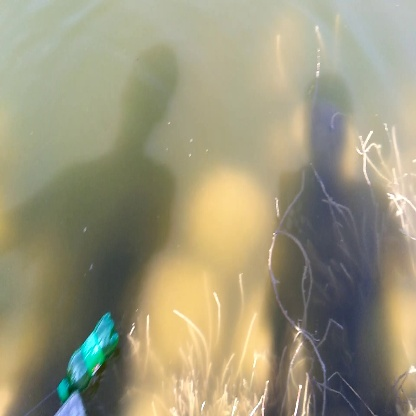bottle: (53, 310, 130, 401)
